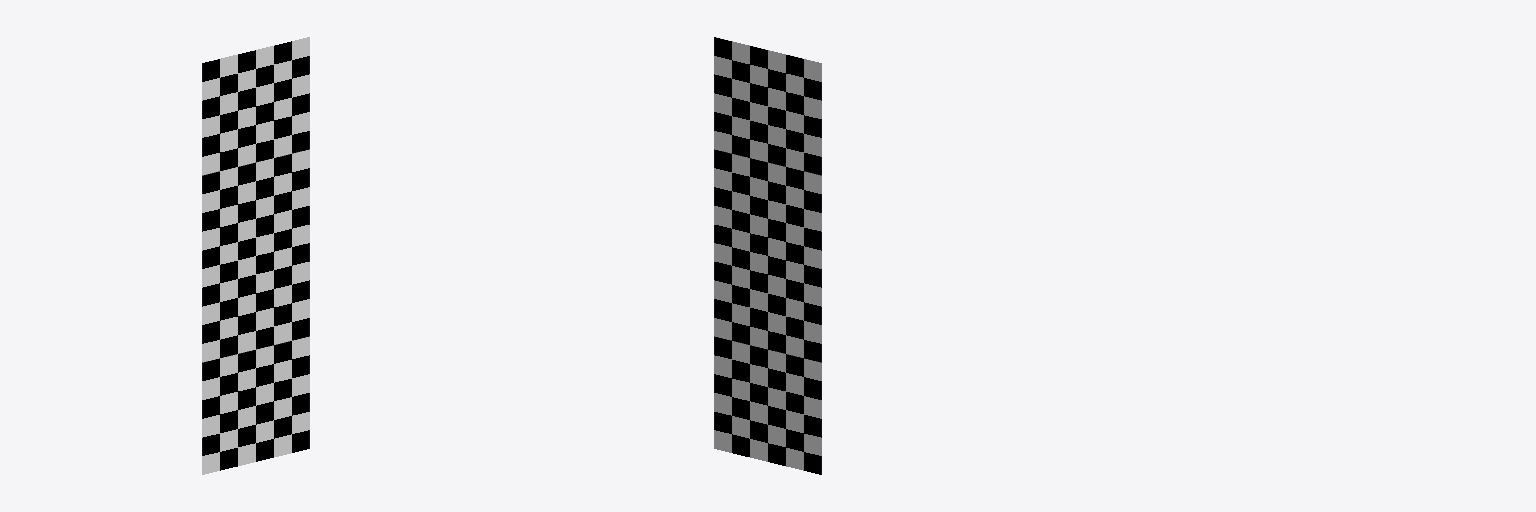
The picture shows the model from 3 angles: view 1: azimuth 30°, elevation 25°; view 2: azimuth 150°, elevation 25°; view 3: azimuth 270°, elevation 25°; orthographic projection.
Visible parts, largest first — view 1: xadrez(154); view 2: xadrez(154); view 3: none.
Boxes of the visible parts, x1=… form: xadrez(154): x1=202, y1=37, x2=309, y2=474; xadrez(154): x1=714, y1=37, x2=821, y2=474.
Size of the model in its own units: 42 by 154 by 0.1.
Materials: 2 (1 with a texture image).